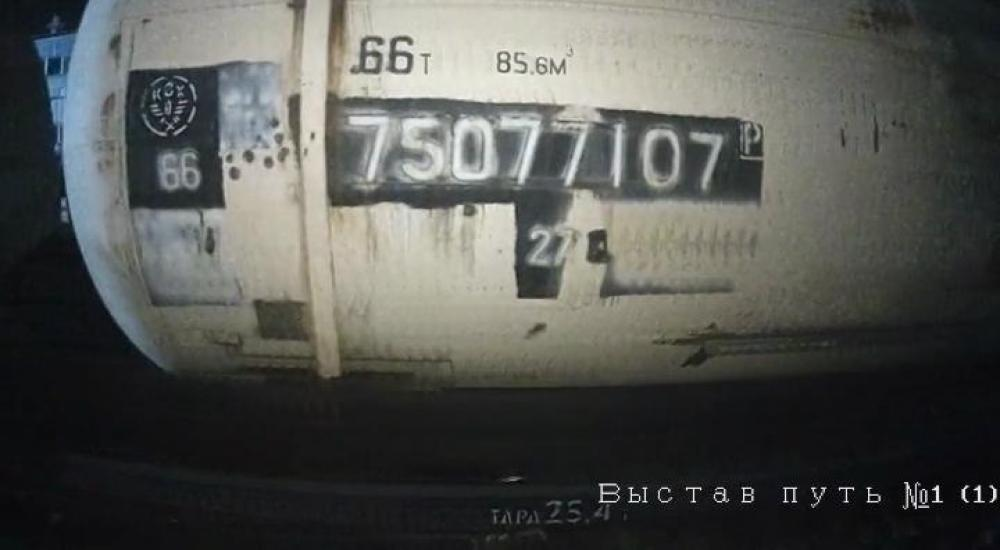Wagon-number: (344, 109, 727, 197)
